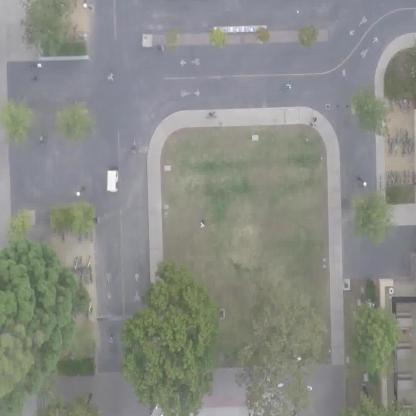Bicyclist: (154, 35, 173, 58), (102, 327, 119, 344), (27, 70, 44, 86), (280, 78, 296, 93), (127, 141, 138, 159), (36, 132, 48, 146), (103, 63, 115, 76)
Cart: (105, 168, 120, 196)
Pedestrian: (202, 108, 218, 122), (193, 216, 206, 233), (309, 116, 320, 130)
